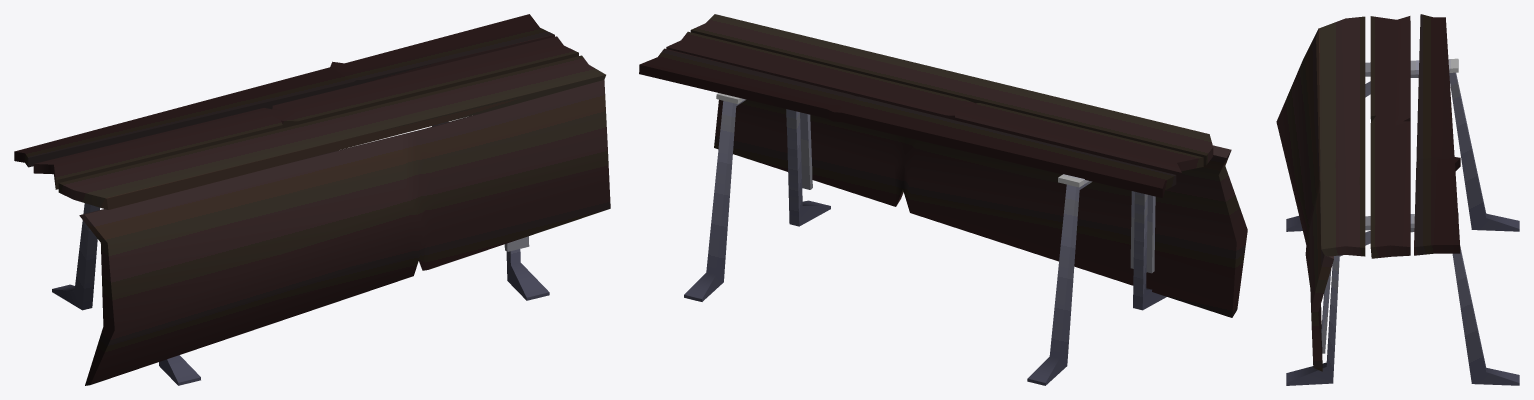
The model's file is SM_Table.fbx.
3 views of the same model, side by side, from view 1: azimuth 30°, elevation 25°; view 2: azimuth 150°, elevation 25°; view 3: azimuth 270°, elevation 25° (orthographic). The views are drawn at different scales.
Parts seen in each view (by area): view 1: Table; view 2: Table; view 3: Table.
Boxes of the visible parts, left/top/right/bottom form: Table: left=14, top=14, right=610, bottom=385; Table: left=639, top=14, right=1247, bottom=385; Table: left=1276, top=14, right=1519, bottom=385.
Bounding box in the file's own units: 181 × 64 × 80.33.
